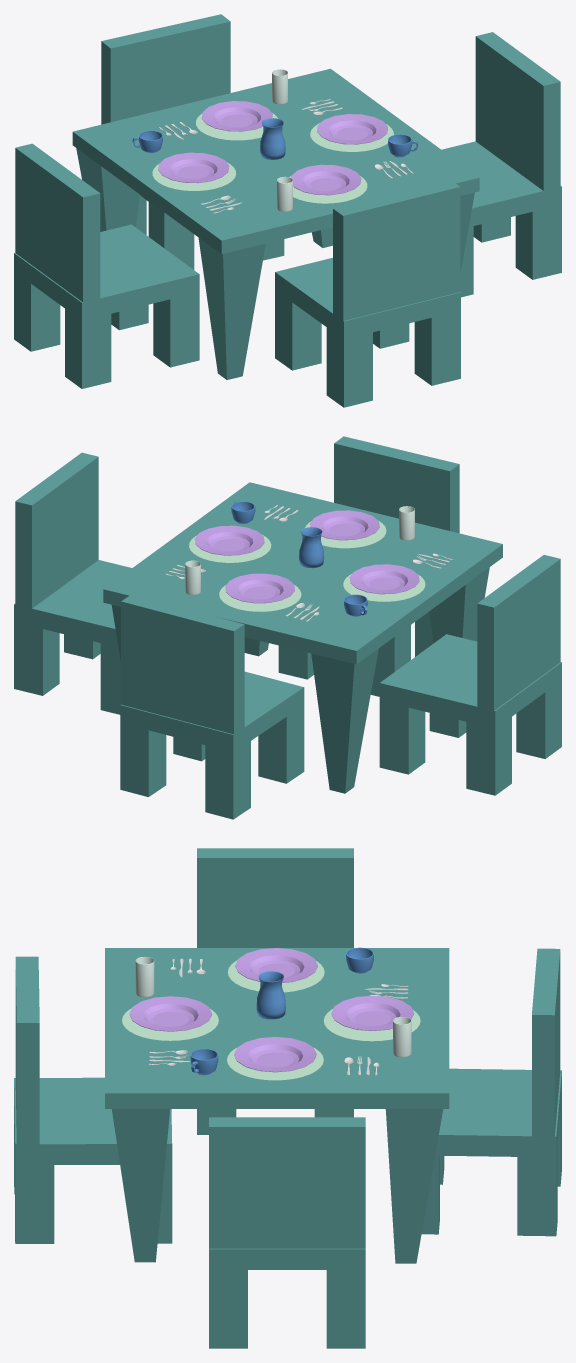
File: complete dining table.fbx
3 renders of one model, top to bottom at view 1: azimuth 30°, elevation 25°; view 2: azimuth 150°, elevation 25°; view 3: azimuth 270°, elevation 25°, orthographic. The views are drawn at different scales.
Parts seen in each view (by area): view 1: Cube.003, Cube.004, Cube.001, Cube.002, Cube.005, Dinner Plate 34x3cm.003, Dinner Plate 34x3cm, Dinner Plate 34x3cm.002, Dinner Plate 34x3cm.001, Cylinder, Circle.001, Circle (+6 smaller); view 2: Cube.003, Cube.005, Cube.001, Cube.002, Cube.004, Dinner Plate 34x3cm, Dinner Plate 34x3cm.001, Dinner Plate 34x3cm.003, Dinner Plate 34x3cm.002, Cylinder, Circle.003, Circle (+5 smaller); view 3: Cube.003, Cube.002, Cube.005, Cube.001, Cube.004, Dinner Plate 34x3cm.002, Dinner Plate 34x3cm.003, Dinner Plate 34x3cm.001, Dinner Plate 34x3cm, Cylinder, Circle.002, Circle (+6 smaller).
Part boxes in pixels (left/top/right/bottom): Cube.003: left=72, top=68, right=479, bottom=379; Cube.004: left=275, top=179, right=460, bottom=407; Cube.001: left=14, top=143, right=199, bottom=388; Cube.002: left=442, top=32, right=561, bottom=297; Cube.005: left=101, top=14, right=284, bottom=269; Dinner Plate 34x3cm.003: left=317, top=114, right=387, bottom=144; Dinner Plate 34x3cm: left=158, top=152, right=229, bottom=183; Dinner Plate 34x3cm.002: left=291, top=164, right=361, bottom=195; Dinner Plate 34x3cm.001: left=201, top=101, right=272, bottom=131; Cylinder: left=260, top=118, right=285, bottom=159; Circle.001: left=152, top=162, right=236, bottom=190; Circle: left=310, top=123, right=393, bottom=151; Cube.003: left=103, top=482, right=502, bottom=793; Cube.005: left=120, top=594, right=304, bottom=819; Cube.001: left=379, top=555, right=561, bottom=795; Cube.002: left=14, top=452, right=131, bottom=714; Cube.004: left=278, top=436, right=459, bottom=696; Dinner Plate 34x3cm: left=349, top=564, right=419, bottom=594; Dinner Plate 34x3cm.001: left=225, top=573, right=294, bottom=603; Dinner Plate 34x3cm.003: left=194, top=525, right=264, bottom=555; Dinner Plate 34x3cm.002: left=310, top=510, right=379, bottom=540; Cylinder: left=299, top=527, right=324, bottom=568; Circle.003: left=219, top=585, right=301, bottom=611; Circle: left=189, top=534, right=271, bottom=562; Cube.003: left=105, top=948, right=449, bottom=1263; Cube.002: left=209, top=1117, right=365, bottom=1348; Cube.005: left=421, top=948, right=561, bottom=1236; Cube.001: left=197, top=848, right=353, bottom=1134; Cube.004: left=14, top=956, right=172, bottom=1243; Dinner Plate 34x3cm.002: left=129, top=996, right=211, bottom=1031; Dinner Plate 34x3cm.003: left=234, top=1037, right=316, bottom=1072; Dinner Plate 34x3cm.001: left=331, top=995, right=414, bottom=1030; Dinner Plate 34x3cm: left=235, top=948, right=317, bottom=982; Cylinder: left=256, top=971, right=285, bottom=1019; Circle.002: left=122, top=1008, right=218, bottom=1040; Circle: left=227, top=1048, right=323, bottom=1080.
Bounding box in the file's own units: 1368 × 531 × 1158.
